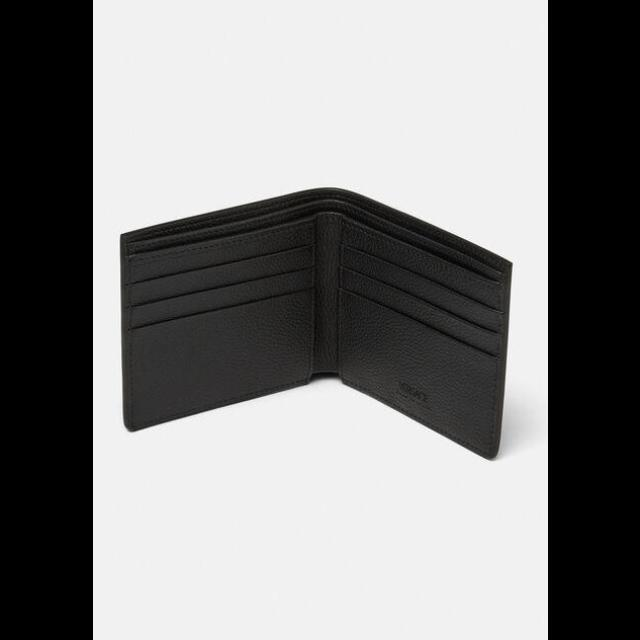wallet: (122, 186, 510, 458)
